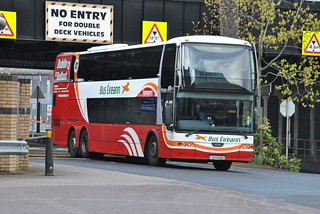bus: (52, 35, 254, 172)
